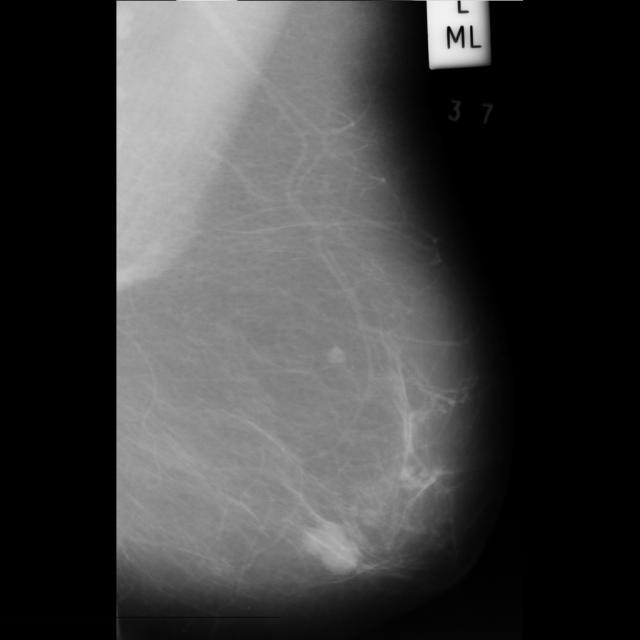CIRC: (323, 538, 361, 576)
